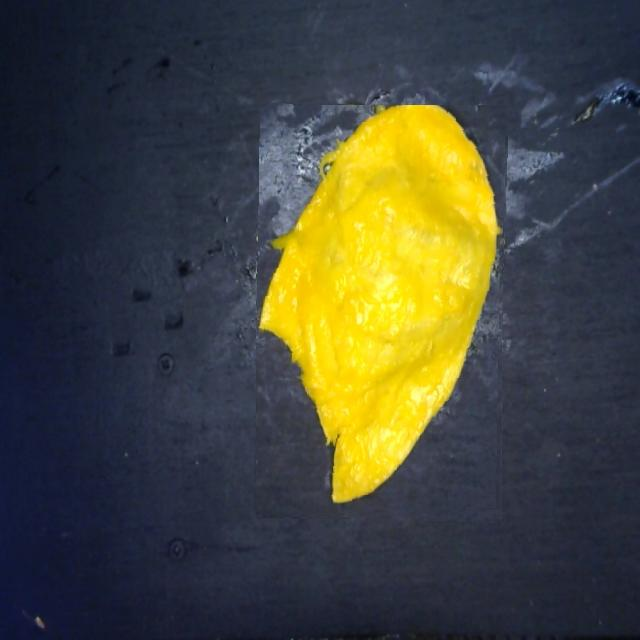biodegradable: (256, 105, 506, 521)
